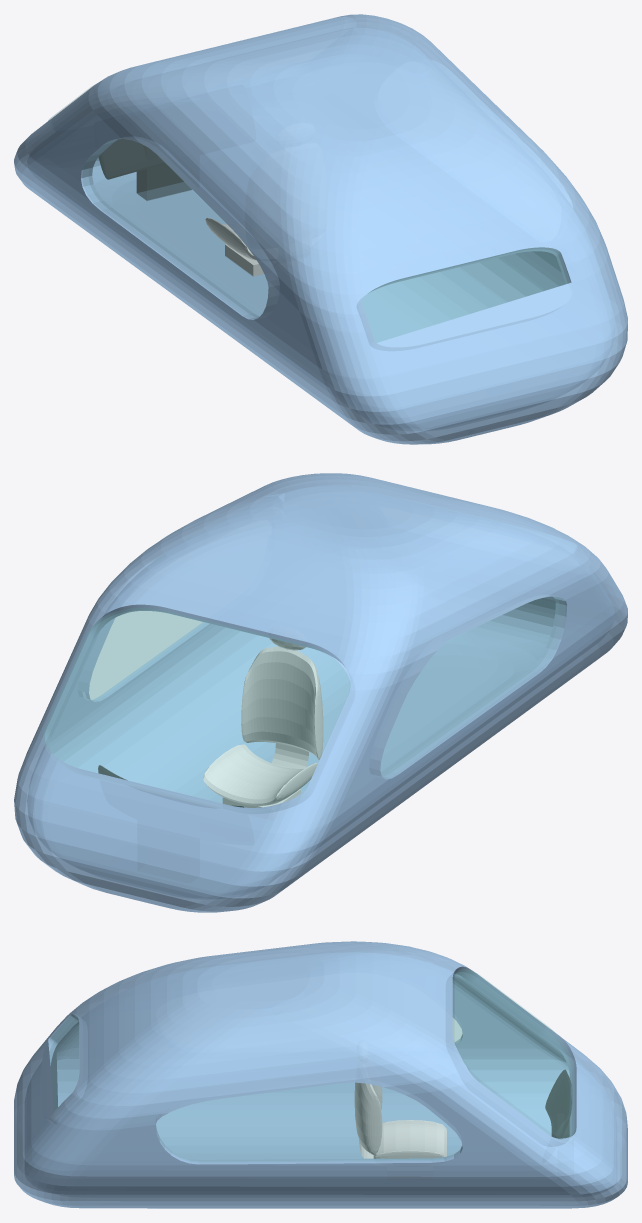
File: капсула5.fbx
The picture shows the model from 3 angles, top to bottom: view 1: azimuth 30°, elevation 25°; view 2: azimuth 150°, elevation 25°; view 3: azimuth 270°, elevation 25°; orthographic projection. The views are drawn at different scales.
Parts seen in each view (by area): view 1: Circle, Cube.004, Cube.007, Circle.003, Cube.002, Circle.001; view 2: Circle, Cube.006, Cube.004, Circle.002, Cube.005, Circle.001, Plane; view 3: Circle, Cube.005, Cube.006, Circle.001, Cube.007, Circle.002, Circle.003.
Part boxes in pixels (x1,y1,x2,y2): Circle: (14,14,627,444); Cube.004: (82,139,268,318); Cube.007: (362,247,569,342); Circle.003: (98,139,166,179); Cube.002: (136,146,191,200); Circle.001: (205,218,256,260); Circle: (14,473,627,912); Cube.006: (43,608,350,807); Cube.004: (380,597,565,778); Circle.002: (241,646,323,760); Cube.005: (89,611,202,699); Circle.001: (203,744,317,805); Plane: (271,743,308,768); Circle: (14,941,627,1208); Cube.005: (156,1082,461,1161); Cube.006: (453,969,573,1139); Circle.001: (373,1120,446,1158); Cube.007: (49,1014,78,1110); Circle.002: (354,1082,382,1154); Circle.003: (545,1069,571,1138).
Bounding box in the file's own units: 400 × 315 × 854.
